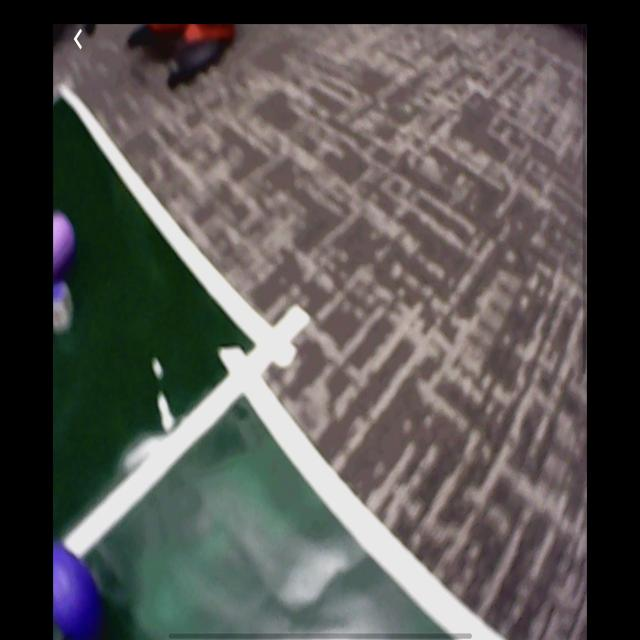ball: (55, 543, 100, 640), (56, 210, 75, 276)
